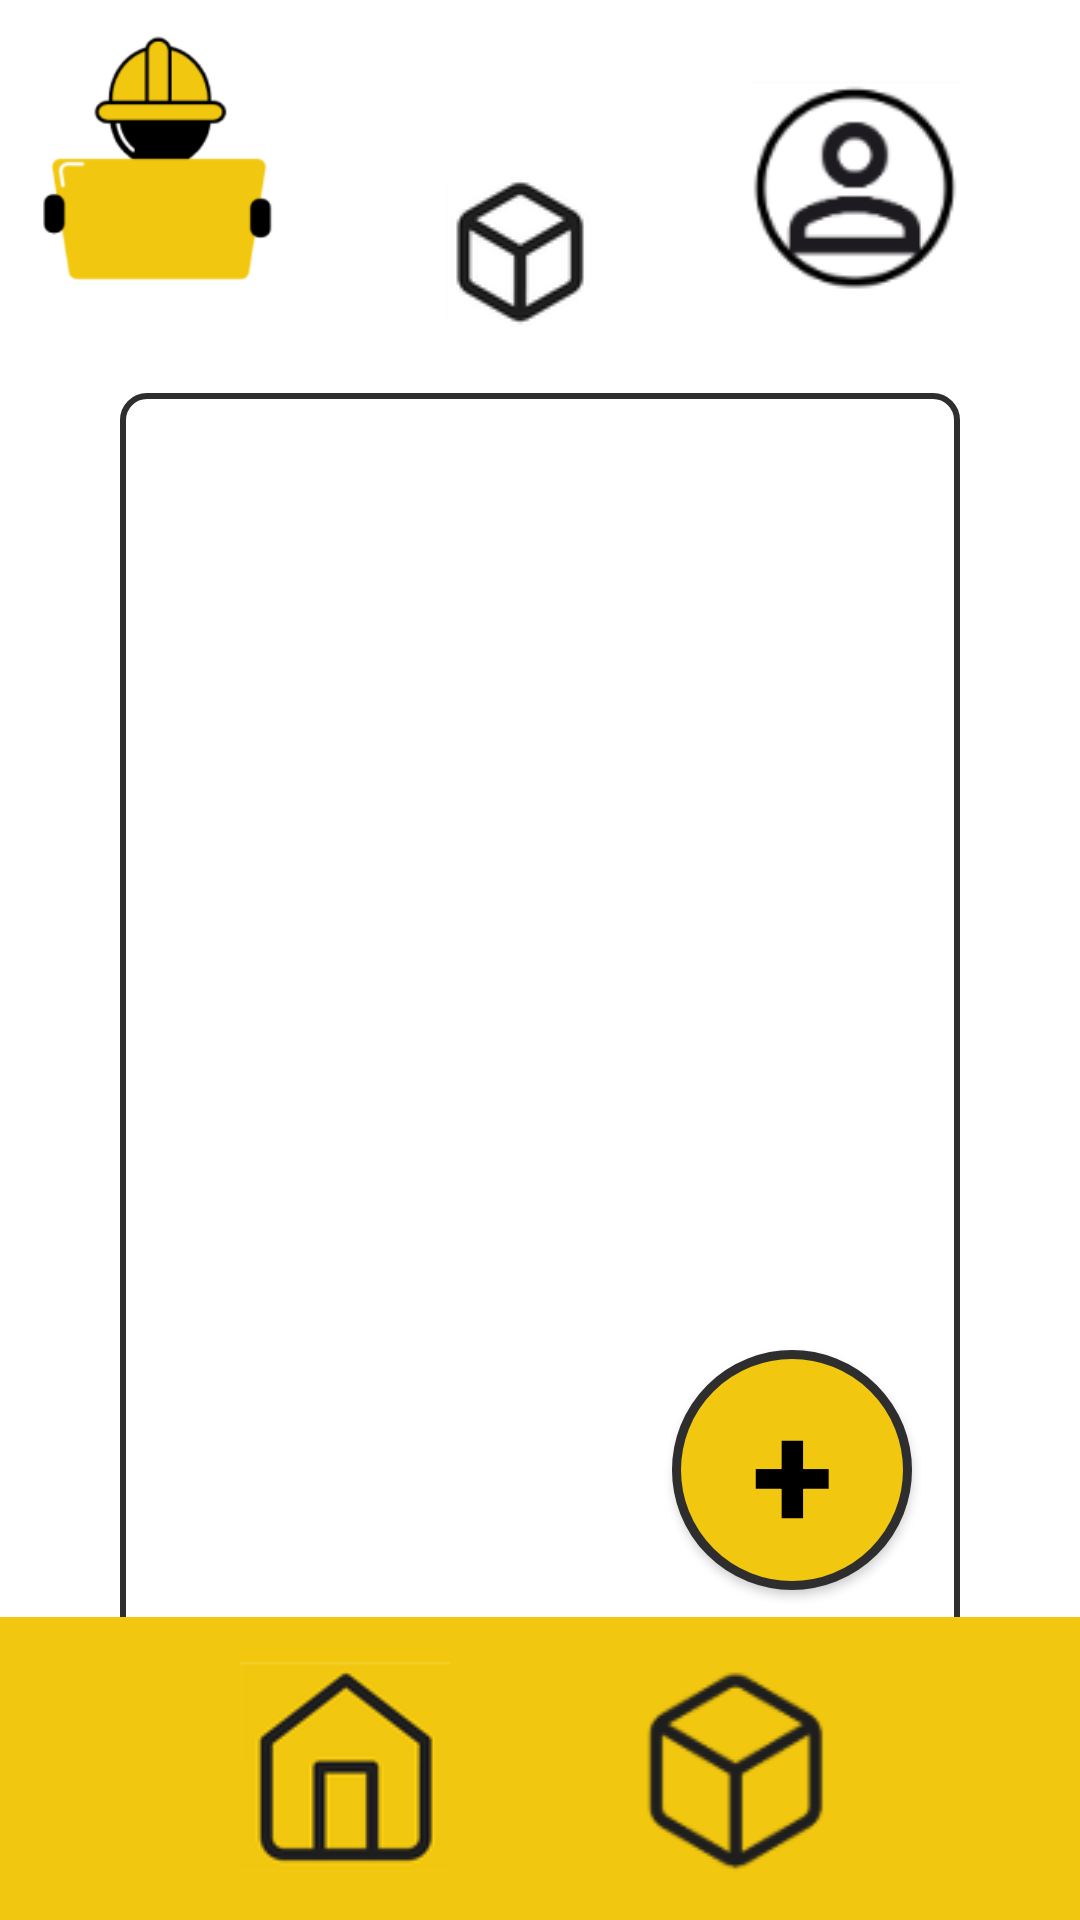

Icons on this 1080 x 1920 Android screen, each with its box as (x1, y1, x2, y2):
box: (456, 182, 584, 323), (648, 1672, 823, 1869)
home: (240, 1662, 433, 1862)
person: (754, 87, 956, 289)
